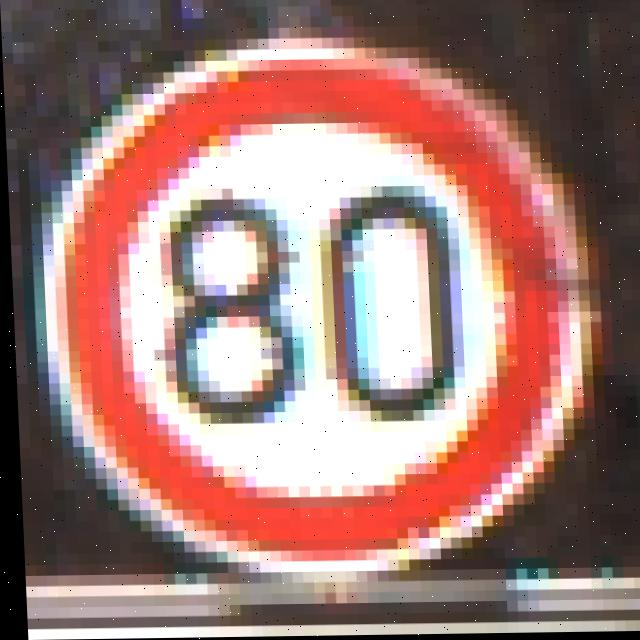speed_limit_80: (35, 52, 602, 574)
